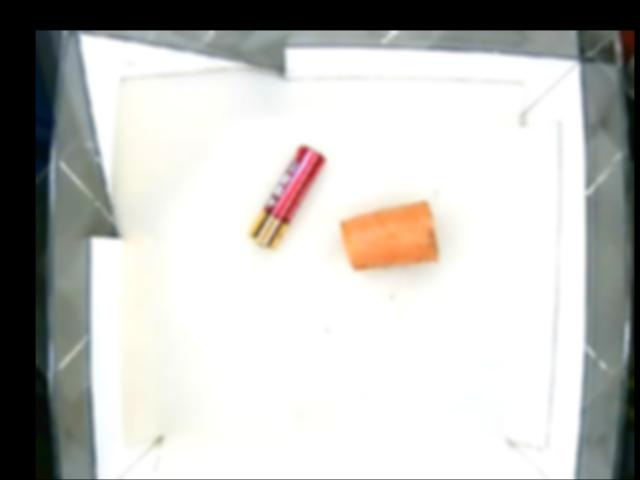Battery: (244, 146, 324, 250)
Carrot: (338, 198, 438, 271)
